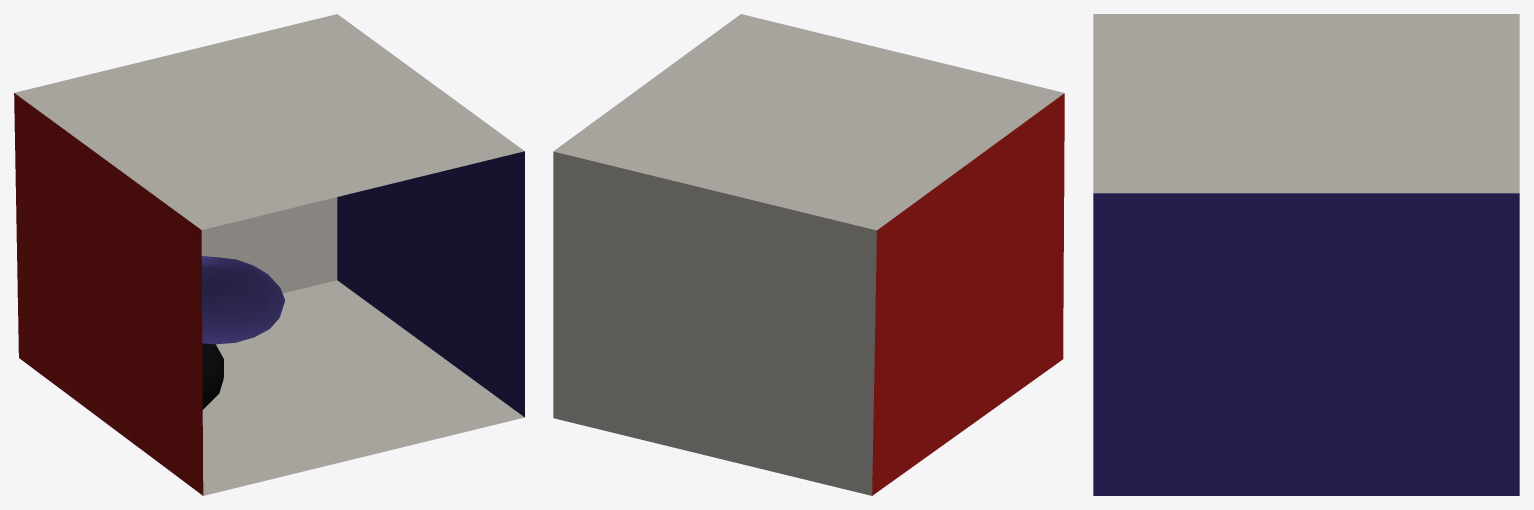
The model's file is CornellBox-Ellipsoid-162.obj.
3 renders of one model, left to right at view 1: azimuth 30°, elevation 25°; view 2: azimuth 150°, elevation 25°; view 3: azimuth 270°, elevation 25°, orthographic. The views are drawn at different scales.
Visible parts, largest first — view 1: ceiling, leftWall, floor, rightWall, backWall, leftSphere, rightSphere; view 2: backWall, ceiling, leftWall; view 3: rightWall, ceiling.
Part boxes in pixels (x1,y1,x2,y2): ceiling: [14, 14, 524, 229]; leftWall: [14, 93, 203, 495]; floor: [202, 280, 524, 495]; rightWall: [337, 151, 524, 417]; backWall: [201, 197, 337, 293]; leftSphere: [201, 256, 284, 344]; rightSphere: [202, 343, 223, 409]; backWall: [553, 151, 876, 495]; ceiling: [553, 14, 1064, 230]; leftWall: [872, 93, 1064, 495]; rightWall: [1093, 193, 1519, 495]; ceiling: [1093, 14, 1519, 193].
Size of the model in its own units: 2.02 by 1.59 by 2.03.
